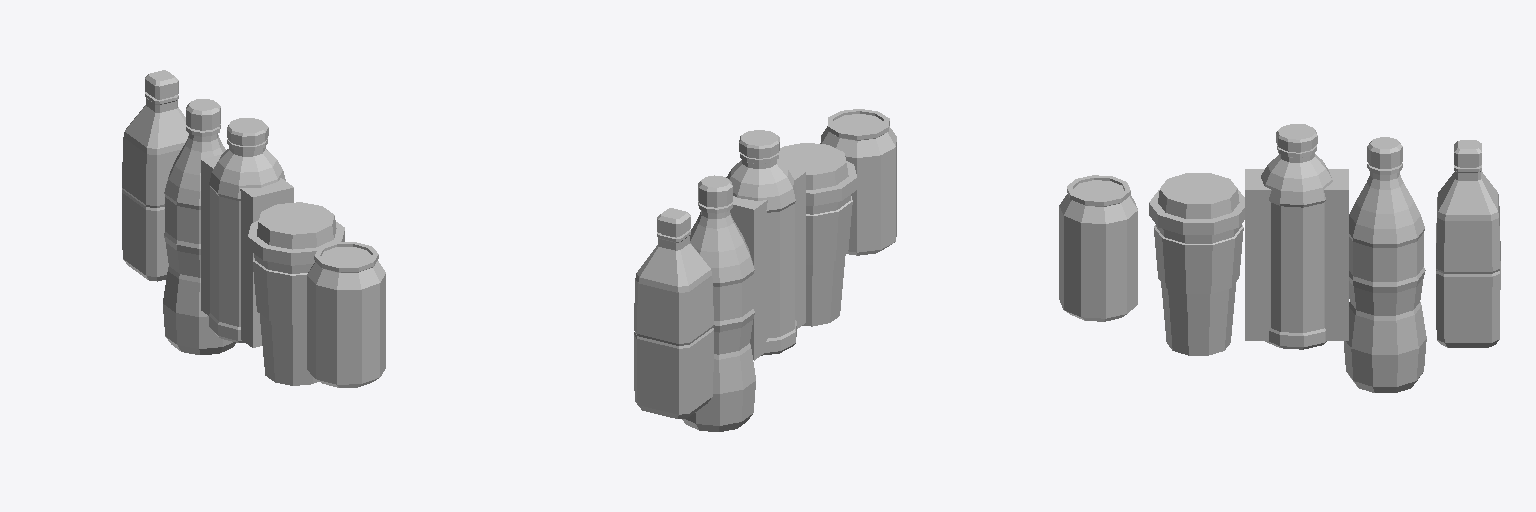
Rendered from items 2.obj.
The picture shows the model from 3 angles: view 1: azimuth 30°, elevation 25°; view 2: azimuth 150°, elevation 25°; view 3: azimuth 270°, elevation 25°; orthographic projection.
Visible parts, largest first — view 1: coconut_water_Cylinder.001, starbucks_Cylinder.004, coca_cola_tri_Cylinder, calpico_strawberry_Cube.001, arizona_Cylinder.002, strawberry_pocky_Cube; view 2: calpico_strawberry_Cube.001, coca_cola_tri_Cylinder, starbucks_Cylinder.004, arizona_Cylinder.002, coconut_water_Cylinder.001, strawberry_pocky_Cube; view 3: coca_cola_tri_Cylinder, starbucks_Cylinder.004, arizona_Cylinder.002, calpico_strawberry_Cube.001, coconut_water_Cylinder.001, strawberry_pocky_Cube.
Part boxes in pixels (x1,y1,x2,y2): coconut_water_Cylinder.001: (307, 242, 385, 387); starbucks_Cylinder.004: (248, 202, 344, 385); coca_cola_tri_Cylinder: (163, 99, 235, 354); calpico_strawberry_Cube.001: (122, 70, 188, 281); arizona_Cylinder.002: (209, 118, 285, 342); strawberry_pocky_Cube: (201, 154, 293, 347); calpico_strawberry_Cube.001: (634, 208, 713, 418); coca_cola_tri_Cylinder: (682, 175, 755, 431); starbucks_Cylinder.004: (777, 143, 856, 326); arizona_Cylinder.002: (726, 130, 796, 355); coconut_water_Cylinder.001: (820, 109, 896, 255); strawberry_pocky_Cube: (730, 167, 805, 360); coca_cola_tri_Cylinder: (1344, 137, 1426, 392); starbucks_Cylinder.004: (1149, 173, 1244, 355); arizona_Cylinder.002: (1261, 124, 1332, 349); calpico_strawberry_Cube.001: (1436, 140, 1500, 347); coconut_water_Cylinder.001: (1059, 175, 1137, 321); strawberry_pocky_Cube: (1245, 169, 1348, 340).
Size of the model in its own units: 1.14 by 3.3 by 5.31.